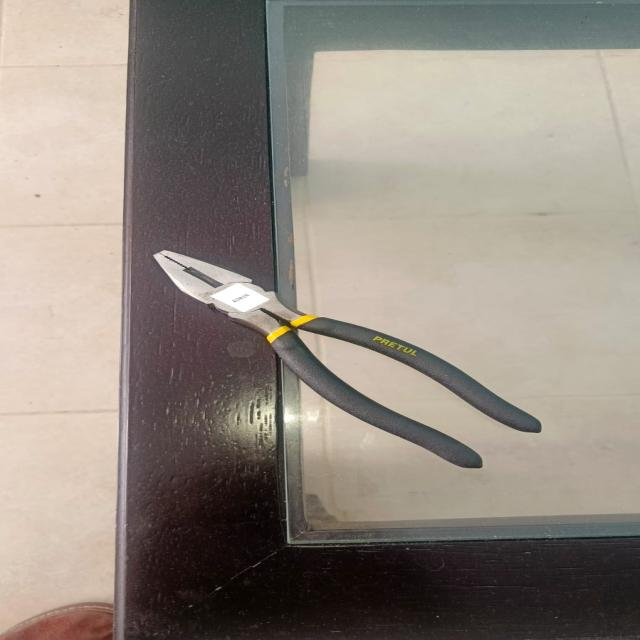alicate: (138, 231, 571, 483)
